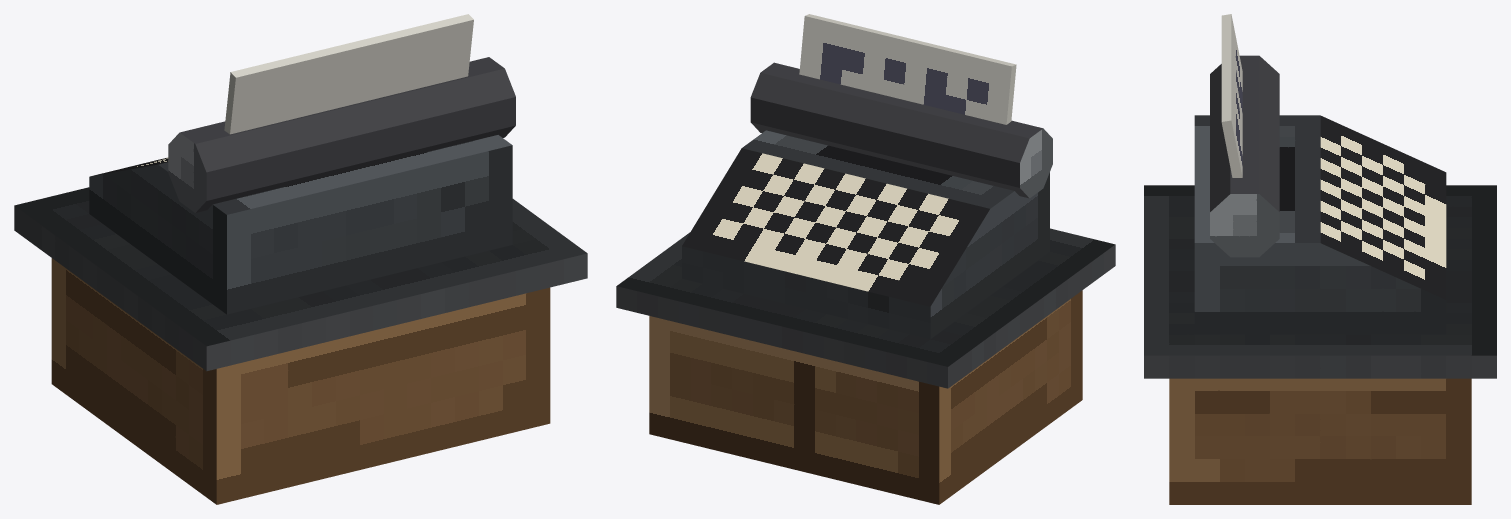
The model's file is era1_teletype.obj.
3 renders of one model, left to right at view 1: azimuth 30°, elevation 25°; view 2: azimuth 150°, elevation 25°; view 3: azimuth 270°, elevation 25°, orthographic. The views are drawn at different scales.
Visible parts, largest first — view 1: era1_teletype; view 2: era1_teletype; view 3: era1_teletype.
Part boxes in pixels (x1,y1,x2,y2): era1_teletype: [14, 14, 587, 504]; era1_teletype: [616, 14, 1115, 504]; era1_teletype: [1144, 14, 1496, 504].
Size of the model in its own units: 1 by 0.9941 by 0.875.
